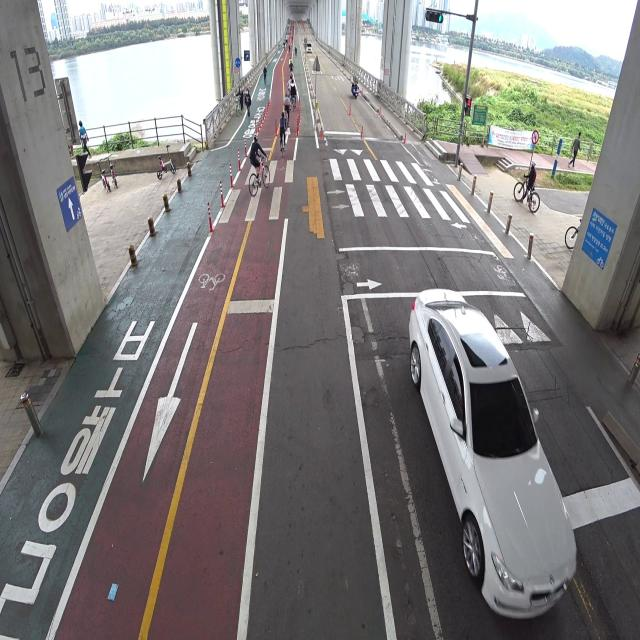Motorcycle: (349, 70, 360, 97)
